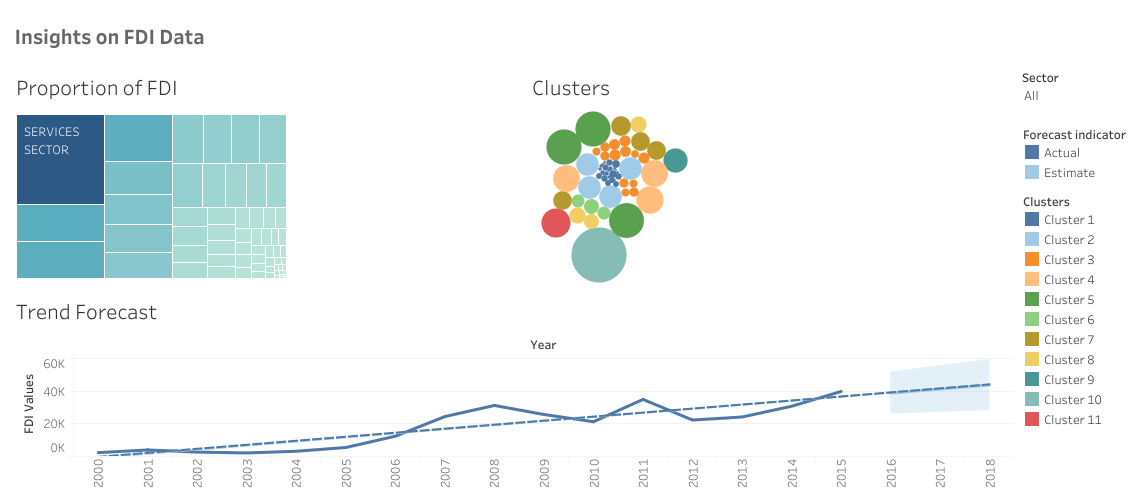

This screenshot's page, from the dashboard's own definition file:
{"tool":"tableau","page":{"name":"Dashboard 1","canvas":[1143,501],"ordinal":0},"visuals":[{"type":"text","box":[8,8,1127,54.7]},{"type":"worksheet","title":"Proportion of FDI","mark":"Automatic","box":[8,62.7,515.8,224.6]},{"type":"worksheet","title":"Clusters","mark":"Circle","box":[523.8,62.7,494.2,224.6]},{"type":"filter","title":"Trend Forecast","param":"[federated.1e9zxy11swjx8n13gse5x0k94y7n].[none:Sector:nk]","box":[1018,62.7,117,56]},{"type":"legend","title":"Trend Forecast","param":"[federated.1e9zxy11swjx8n13gse5x0k94y7n].[none:Forecast Indicator:nk]","box":[1018,118.7,117,67]},{"type":"legend","title":"Clusters","param":"[federated.1e9zxy11swjx8n13gse5x0k94y7n].[none:AdhocCluster:1:ok]","box":[1018,185.7,117,247]},{"type":"worksheet","title":"Trend Forecast","mark":"Automatic","rows":["Pivot Field Values"],"cols":["Pivot Field Names"],"box":[8,287.3,1010,205.7]}]}

Visuals, with their boxes in screenshot pixels (x1, y1, x2, y2), scaled from the page's 1143x501 canvas onto the 1142x500 screenshot:
text: (x1=8, y1=8, x2=1134, y2=63)
"Proportion of FDI" worksheet: (x1=8, y1=63, x2=523, y2=287)
"Clusters" worksheet (Circle marks): (x1=523, y1=63, x2=1017, y2=287)
"Trend Forecast" filter: (x1=1017, y1=63, x2=1134, y2=118)
"Trend Forecast" legend: (x1=1017, y1=118, x2=1134, y2=185)
"Clusters" legend: (x1=1017, y1=185, x2=1134, y2=432)
"Trend Forecast" worksheet: (x1=8, y1=287, x2=1017, y2=492)
